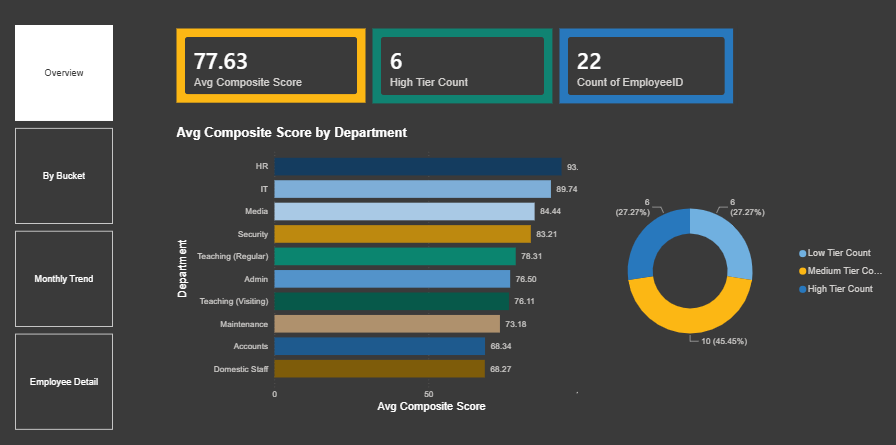

The dashboard page shown, as its layout file describes it:
{"tool":"powerbi","page":{"name":"Overview","canvas":[1280,720],"ordinal":0},"visuals":[{"type":"cardVisual","fields":{"Data":["Employees.Avg Composite Score"]},"box":[246.7,70,280,116.7],"z":0},{"type":"cardVisual","fields":{"Data":["CountNonNull(Employees.EmployeeID)"]},"box":[794.3,70,258.6,117.1],"z":1000},{"type":"cardVisual","fields":{"Data":["Employees.High Tier Count"]},"box":[527.1,70,267.1,117.1],"z":2000},{"type":"barChart","fields":{"Category":["Employees.Department"],"Y":["Employees.Avg Composite Score"]},"box":[246.7,213.3,610,415],"z":3000},{"type":"donutChart","fields":{"Y":["Employees.Low Tier Count","Employees.Medium Tier Count","Employees.High Tier Count"]},"box":[825.7,221.4,454.3,400],"z":4000},{"type":"pageNavigator","box":[21.7,70,140,578.3],"z":5000}]}

Visuals, with their boxes on the page's 1280x720 design canvas (x1, y1, x2, y2). These are canvas units, not pixel positions in the 896x445 screenshot, which may show the page scaled, cropped or inside an application window:
cardVisual - Employees.Avg Composite Score: bbox(247, 70, 527, 187)
cardVisual - CountNonNull(Employees.EmployeeID): bbox(794, 70, 1053, 187)
cardVisual - Employees.High Tier Count: bbox(527, 70, 794, 187)
barChart - Employees.Department x Employees.Avg Composite Score: bbox(247, 213, 857, 628)
donutChart - Employees.Low Tier Count x Employees.Medium Tier Count: bbox(826, 221, 1280, 621)
pageNavigator: bbox(22, 70, 162, 648)
